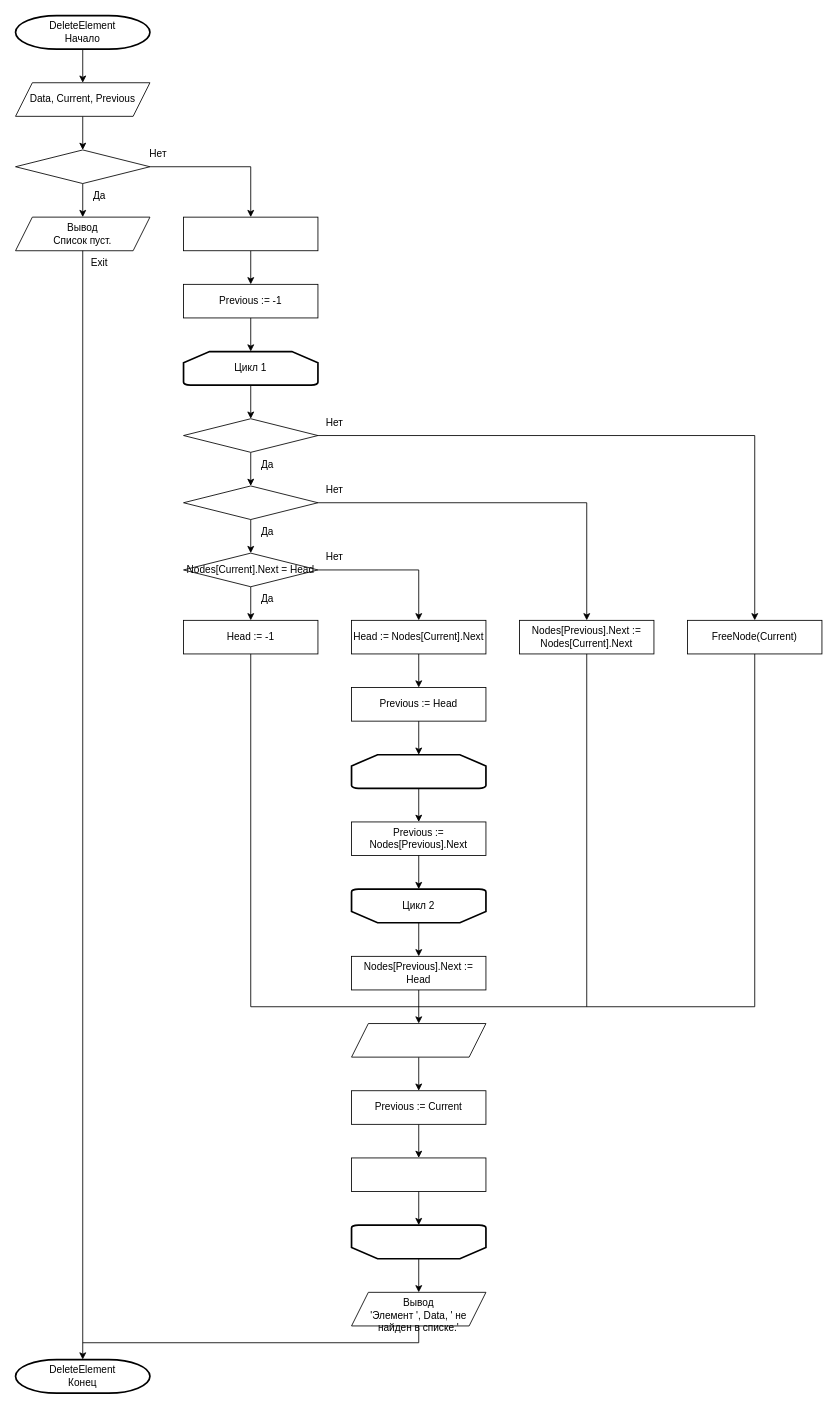
Some shapes in this 837 by 1408 pixel diagram are drawn without their labels. Here are the shapes that lost their labels. From the top down, the box of each, then its label:
(15, 149, 150, 184): Head = -1
(183, 216, 318, 251): Current := Head
(183, 418, 318, 452): Nodes[Current].Data = Data
(183, 485, 318, 520): Previous = -1
(350, 753, 486, 789): Цикл 2 Nodes[Previous].Next <> Current
(351, 1023, 486, 1057): Вывод 'Элемент ', Data, ' удален из списка.'
(351, 1157, 486, 1192): Current := Nodes[Current].Next
(350, 1224, 486, 1259): Цикл 1 Current = Head
